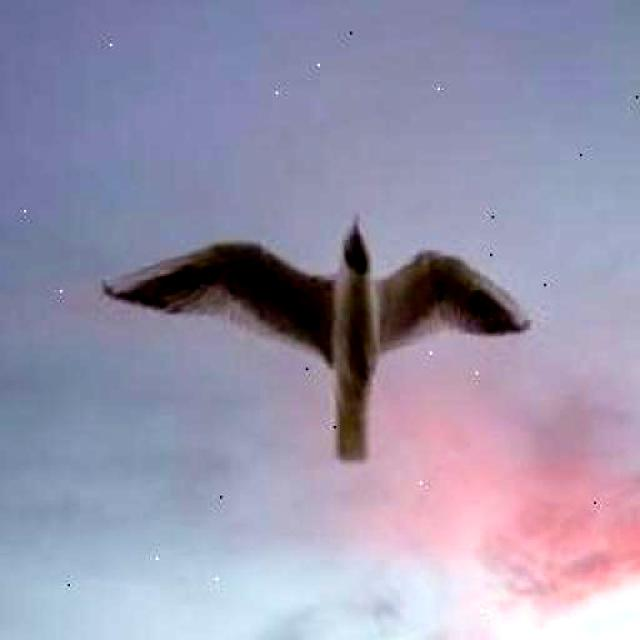airplane: (98, 174, 554, 510)
